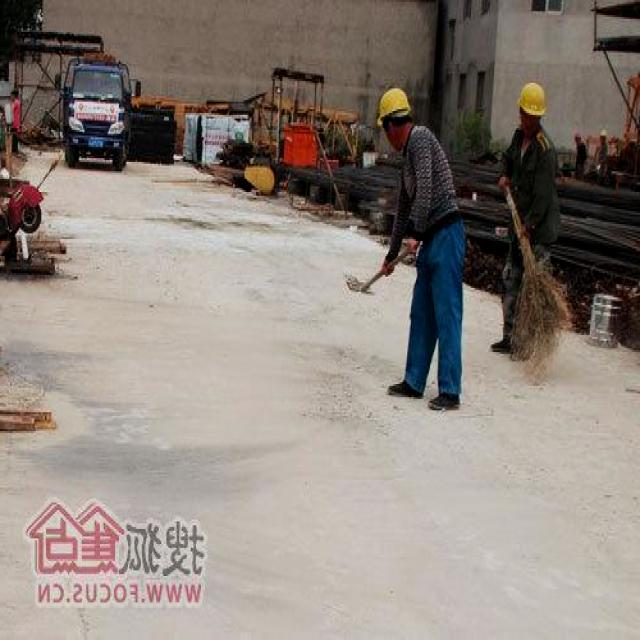hand_noglove: (402, 232, 422, 266), (383, 252, 399, 280)
head_helmet: (374, 86, 411, 120), (516, 79, 549, 115)
person: (379, 85, 466, 412), (489, 74, 562, 364)
shoes: (427, 386, 464, 418), (388, 375, 427, 401)
